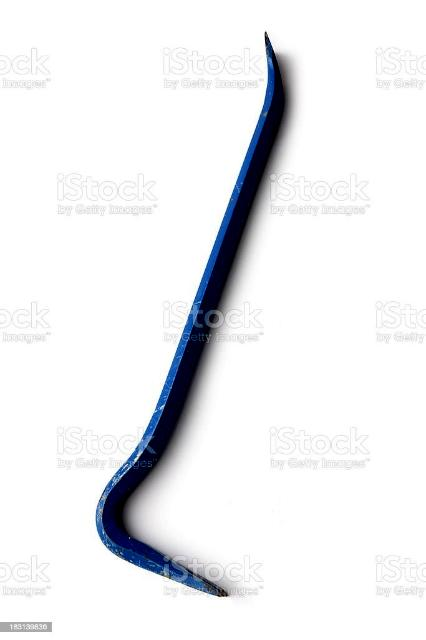crow bar: (98, 34, 284, 602)
